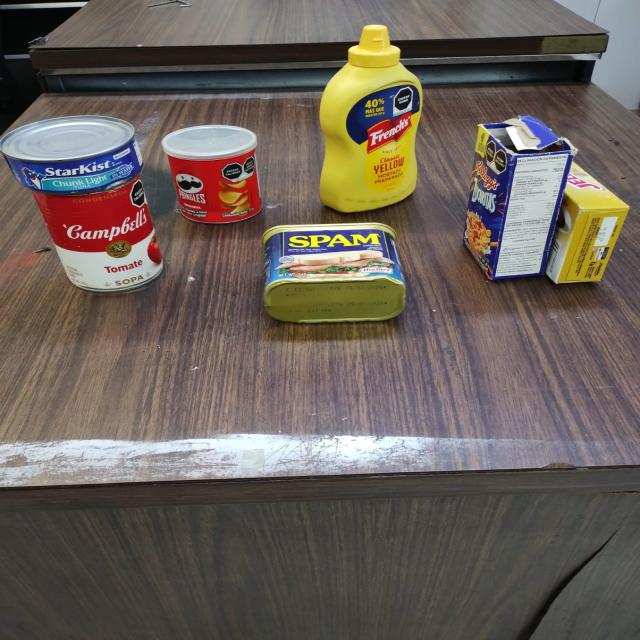can of cream: (21, 171, 171, 294)
can of tuna: (2, 112, 146, 196)
cereal: (466, 117, 576, 281)
chips: (161, 125, 262, 224)
jelly: (541, 159, 627, 285)
mustard: (318, 26, 422, 213)
spam: (259, 222, 408, 322)
